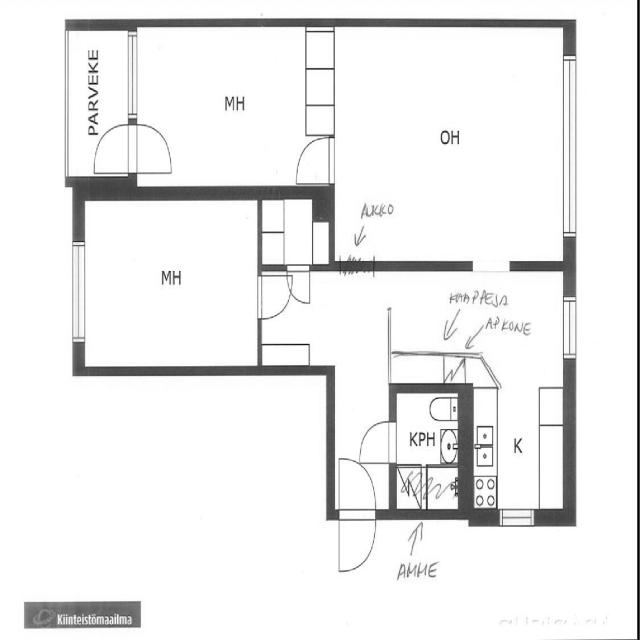door: (87, 118, 175, 175), (334, 502, 378, 576), (334, 457, 378, 516), (289, 131, 335, 187), (357, 418, 398, 471), (257, 274, 291, 321), (268, 268, 303, 311), (286, 264, 314, 306)
window: (554, 52, 586, 246), (122, 28, 143, 121), (70, 238, 87, 348), (560, 290, 580, 368), (492, 505, 538, 531), (466, 259, 514, 276)
zone: (328, 24, 572, 264), (129, 21, 335, 195), (76, 198, 263, 372), (388, 268, 568, 386), (465, 355, 570, 519), (392, 388, 463, 511), (258, 196, 328, 272)
